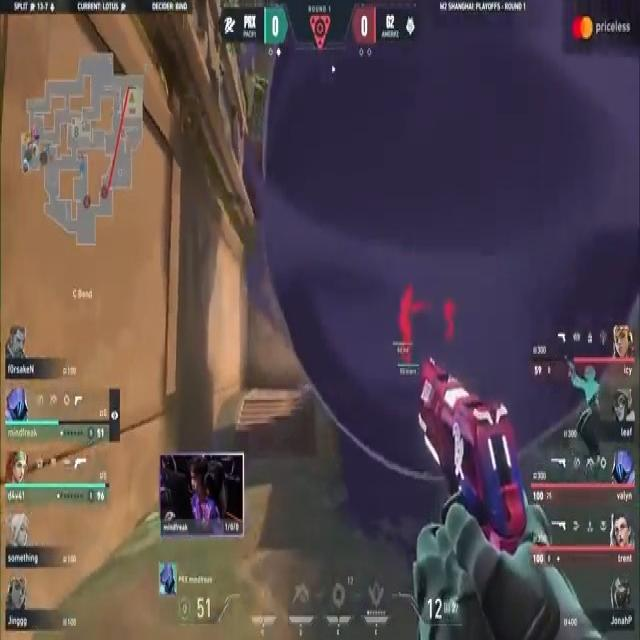smoke: (265, 18, 640, 478)
